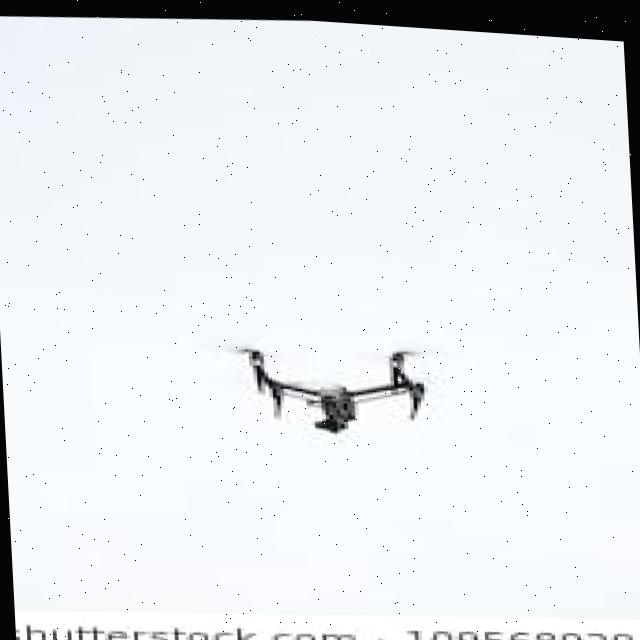drone: (178, 299, 476, 464)
